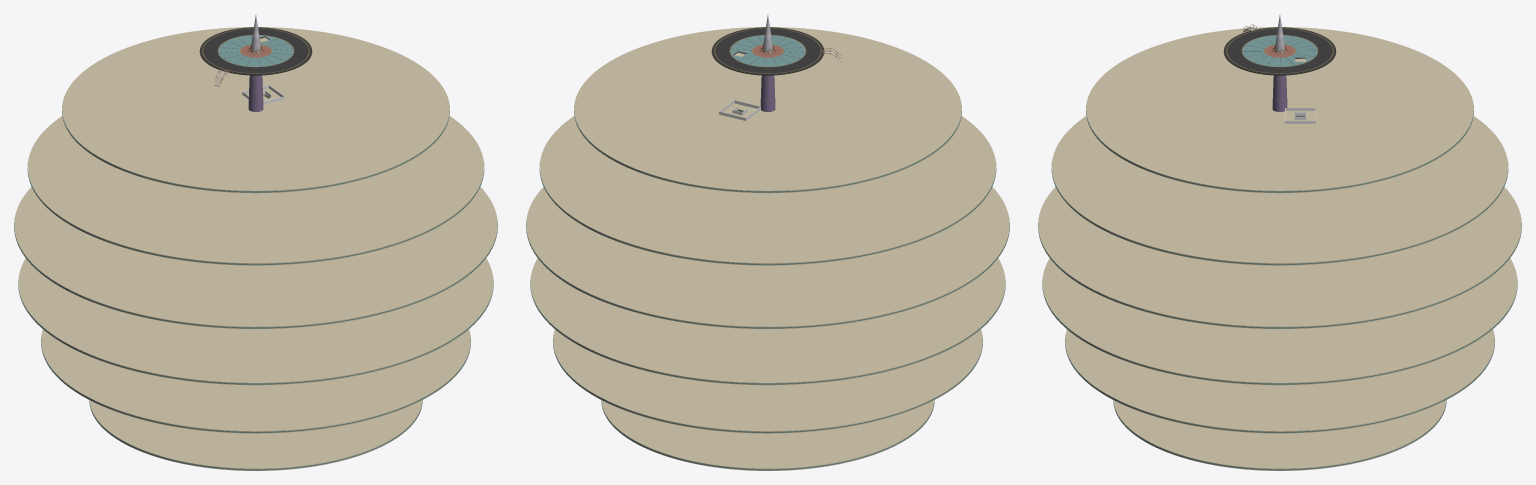
Rendered from ship.glb.
The picture shows the model from 3 angles, left to right: view 1: azimuth 30°, elevation 25°; view 2: azimuth 150°, elevation 25°; view 3: azimuth 270°, elevation 25°; orthographic projection.
Visible parts, largest first — view 1: Deck 01 top 57m, Deck 02 top 32m, Deck 03 top 7m, Deck 04 top -18m, Deck 05 top -43m, Deck 06 top -68m, bridge_floor_top82_q2, bridge_floor_top82_q3, bridge_floor_top82_q1, bridge_floor_top82_q0, deck_floor_fill, Deck 04 edge (+5 smaller); view 2: Deck 01 top 57m, Deck 02 top 32m, Deck 03 top 7m, Deck 04 top -18m, Deck 05 top -43m, Deck 06 top -68m, bridge_floor_top82_q1, bridge_floor_top82_q2, bridge_floor_top82_q0, bridge_floor_top82_q3, deck_floor_fill, Deck 04 edge (+5 smaller); view 3: Deck 01 top 57m, Deck 02 top 32m, Deck 03 top 7m, Deck 04 top -18m, Deck 05 top -43m, Deck 06 top -68m, bridge_floor_top82_q3, bridge_floor_top82_q0, bridge_floor_top82_q1, bridge_floor_top82_q2, deck_floor_fill, Deck 03 edge (+5 smaller).
Boxes of the visible parts, x1,y1,x2,y2 form: Deck 01 top 57m: (62, 27, 449, 193); Deck 02 top 32m: (27, 96, 484, 265); Deck 03 top 7m: (14, 187, 497, 328); Deck 04 top -18m: (18, 258, 493, 385); Deck 05 top -43m: (41, 329, 470, 433); Deck 06 top -68m: (89, 400, 422, 470); bridge_floor_top82_q2: (210, 52, 281, 73); bridge_floor_top82_q3: (259, 40, 308, 70); bridge_floor_top82_q1: (203, 31, 249, 61); bridge_floor_top82_q0: (230, 28, 301, 48); deck_floor_fill: (199, 27, 312, 74); Deck 04 edge: (18, 279, 493, 384); Deck 01 top 57m: (574, 27, 961, 193); Deck 02 top 32m: (539, 116, 996, 265); Deck 03 top 7m: (526, 187, 1009, 328); Deck 04 top -18m: (530, 258, 1005, 385); Deck 05 top -43m: (553, 329, 982, 433); Deck 06 top -68m: (601, 400, 934, 470); bridge_floor_top82_q1: (742, 52, 813, 73); bridge_floor_top82_q2: (774, 31, 823, 61); bridge_floor_top82_q0: (715, 40, 764, 70); bridge_floor_top82_q3: (722, 28, 793, 49); deck_floor_fill: (711, 27, 823, 74); Deck 04 edge: (530, 279, 1005, 384); Deck 01 top 57m: (1086, 27, 1473, 193); Deck 02 top 32m: (1051, 116, 1508, 265); Deck 03 top 7m: (1038, 187, 1521, 328); Deck 04 top -18m: (1042, 258, 1517, 385); Deck 05 top -43m: (1065, 329, 1494, 433); Deck 06 top -68m: (1113, 400, 1446, 470); bridge_floor_top82_q3: (1227, 51, 1279, 73); bridge_floor_top82_q0: (1280, 51, 1332, 73); bridge_floor_top82_q1: (1282, 28, 1332, 50); bridge_floor_top82_q2: (1227, 28, 1277, 50); deck_floor_fill: (1223, 27, 1336, 74); Deck 03 edge: (1038, 223, 1521, 328).
Size of the model in its own units: 189 by 178 by 189.
Materials: 15 (11 with a texture image).
